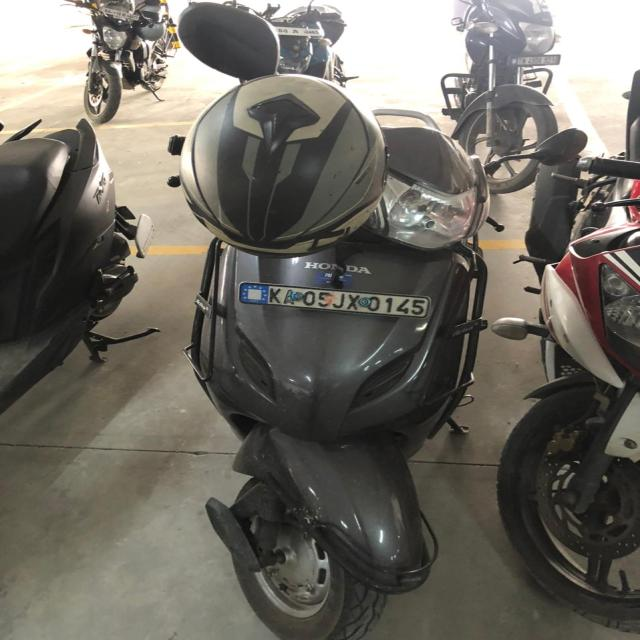license_plate: (237, 281, 431, 319)
